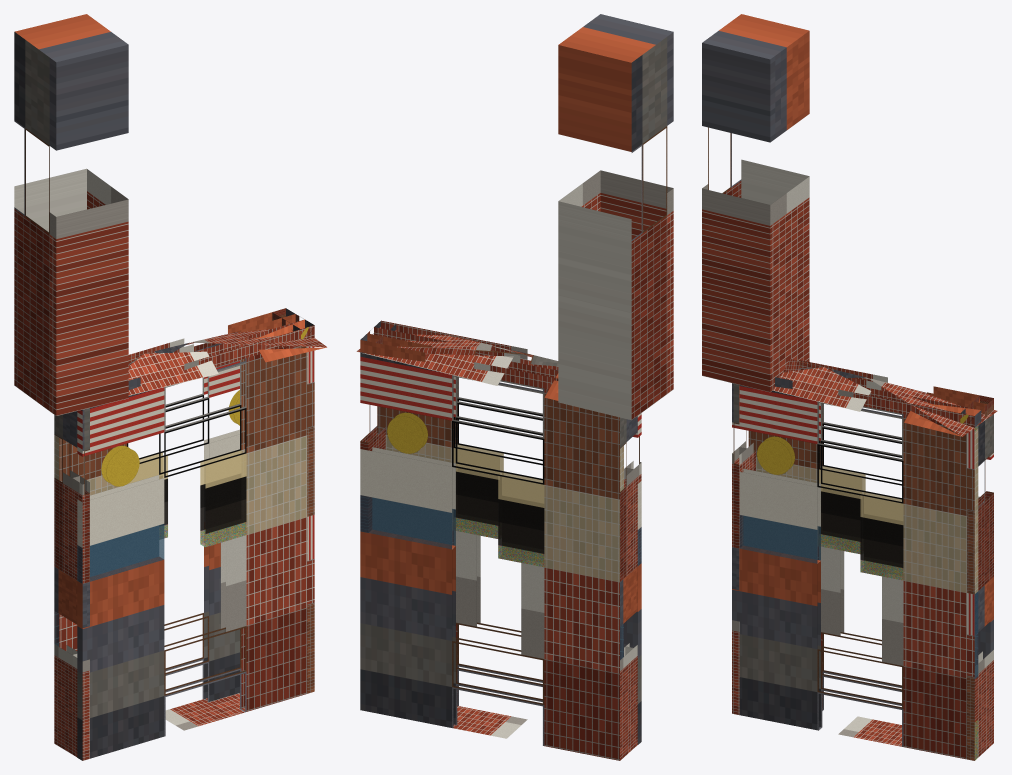
3 renders of one model, left to right at view 1: azimuth 30°, elevation 25°; view 2: azimuth 150°, elevation 25°; view 3: azimuth 330°, elevation 25°, orthographic. The views are drawn at different scales.
Visible parts, largest first — view 1: 238575817__wall_2_xb, 238575817__chimney_0_xb, 238575817__wall_4_xb, 238575817__wall_2_xf, 238575817__wall_0_xb, 238575817__wall_1_xb, 238575817_roof_front_xb, 238575817__cornice_2, 238575817__wall_3_xb, 238575817__base, 238575817__cornice_4, 238575817_roof_right_xb (+1 smaller); view 2: 238575817__wall_4_xb, 238575817__chimney_0_xb, 238575817__wall_2_xb, 238575817__wall_4_xf, 238575817__wall_0_xb, 238575817__wall_2_xf, 238575817__cornice_4, 238575817_roof_back_xb, 238575817__cornice_2, 238575817__wall_1_xb, 238575817_roof_right_xb, 238575817__base (+1 smaller); view 3: 238575817__wall_2_xb, 238575817__chimney_0_xb, 238575817__wall_4_xb, 238575817__wall_3_xb, 238575817__wall_2_xf, 238575817__wall_4_xf, 238575817_roof_front_xb, 238575817__wall_1_xb, 238575817__cornice_2, 238575817__cornice_4, 238575817_roof_right_xb, 238575817__base.
Part boxes in pixels (box(x1,y1,x2,y2)): 238575817__wall_2_xb: box(77, 346, 314, 760); 238575817__chimney_0_xb: box(14, 14, 128, 415); 238575817__wall_4_xb: box(54, 343, 240, 702); 238575817__wall_2_xf: box(77, 451, 246, 582); 238575817__wall_0_xb: box(54, 412, 79, 754); 238575817__wall_1_xb: box(72, 408, 89, 760); 238575817_roof_front_xb: box(128, 347, 326, 395); 238575817__cornice_2: box(128, 319, 314, 390); 238575817__wall_3_xb: box(307, 346, 314, 693); 238575817__base: box(165, 693, 244, 730); 238575817__cornice_4: box(128, 308, 295, 366); 238575817_roof_right_xb: box(129, 328, 326, 357); 238575817__wall_4_xb: box(360, 352, 623, 760); 238575817__chimney_0_xb: box(558, 14, 673, 420); 238575817__wall_2_xb: box(377, 369, 641, 744); 238575817__wall_4_xf: box(360, 473, 623, 659); 238575817__wall_0_xb: box(620, 417, 633, 760); 238575817__wall_2_xf: box(454, 445, 641, 565); 238575817__cornice_4: box(360, 333, 558, 389); 238575817_roof_back_xb: box(357, 351, 558, 400); 238575817__cornice_2: box(374, 320, 558, 370); 238575817__wall_1_xb: box(626, 416, 641, 748); 238575817_roof_right_xb: box(356, 334, 558, 366); 238575817__base: box(453, 706, 527, 738); 238575817__wall_2_xb: box(732, 385, 978, 760); 238575817__chimney_0_xb: box(702, 14, 809, 392); 238575817__wall_4_xb: box(748, 403, 993, 710); 238575817__wall_3_xb: box(967, 414, 993, 760); 238575817__wall_2_xf: box(740, 426, 977, 759); 238575817__wall_4_xf: box(819, 466, 865, 553); 238575817_roof_front_xb: box(773, 367, 961, 436); 238575817__wall_1_xb: box(732, 383, 746, 715); 238575817__cornice_2: box(775, 371, 981, 427); 238575817__cornice_4: box(798, 360, 987, 414); 238575817_roof_right_xb: box(806, 362, 997, 436); 238575817__base: box(838, 716, 901, 746).
Size of the model in its own units: 0.5673 by 1.4 by 0.15.
Materials: 1 (1 with a texture image).
